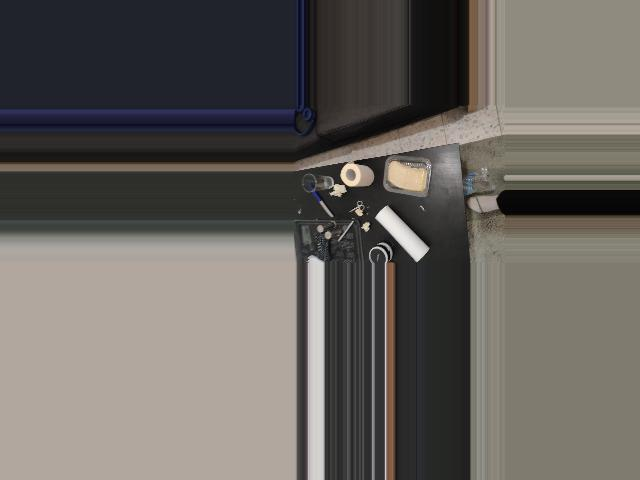cheese: (382, 153, 436, 198)
